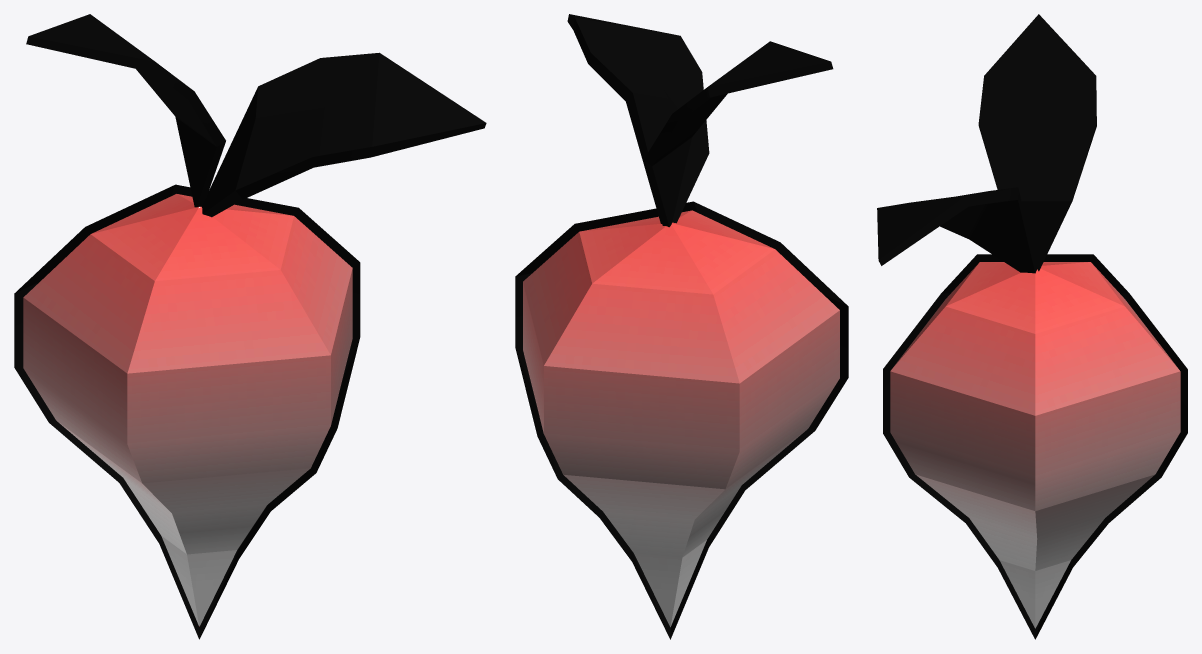
File: radish.fbx
3 renders of one model, left to right at view 1: azimuth 30°, elevation 25°; view 2: azimuth 150°, elevation 25°; view 3: azimuth 270°, elevation 25°, orthographic. The views are drawn at different scales.
Visible parts, largest first — view 1: pCube5; view 2: pCube5; view 3: pCube5.
Boxes of the visible parts, x1,y1,x2,y2 form: pCube5: [14, 14, 486, 639]; pCube5: [515, 14, 848, 639]; pCube5: [877, 14, 1187, 639].
Bounding box in the file's own units: 10.38 × 17.37 × 8.82.
Materials: 3 (1 with a texture image).
